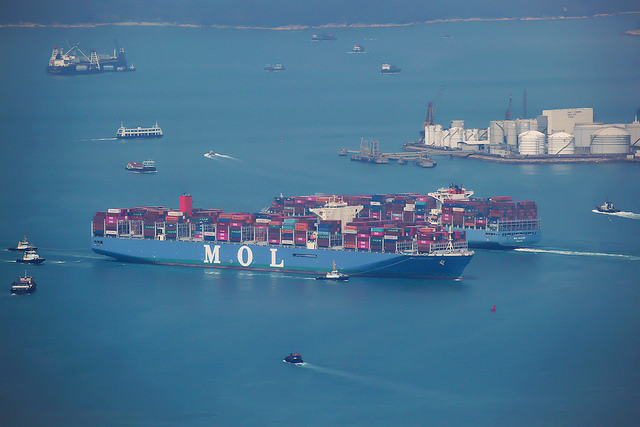boat: (117, 118, 167, 135), (285, 345, 305, 369), (207, 148, 221, 157)
bulk carrier: (48, 42, 117, 71)
container_ship: (93, 194, 476, 286), (271, 187, 541, 248)
tug_boat: (7, 274, 41, 296), (589, 192, 623, 213), (317, 257, 348, 279), (15, 249, 47, 267), (8, 239, 35, 253)
